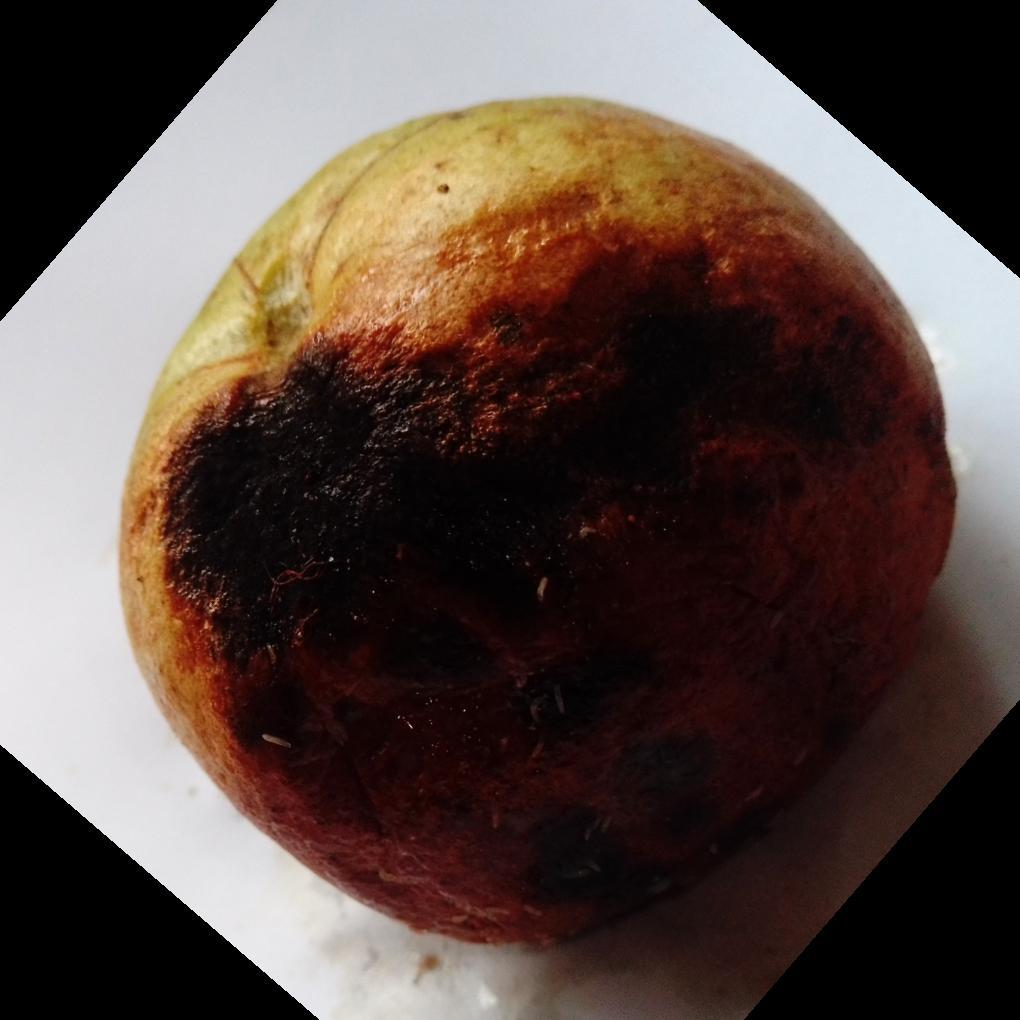FreshOrange: (117, 96, 960, 953)
